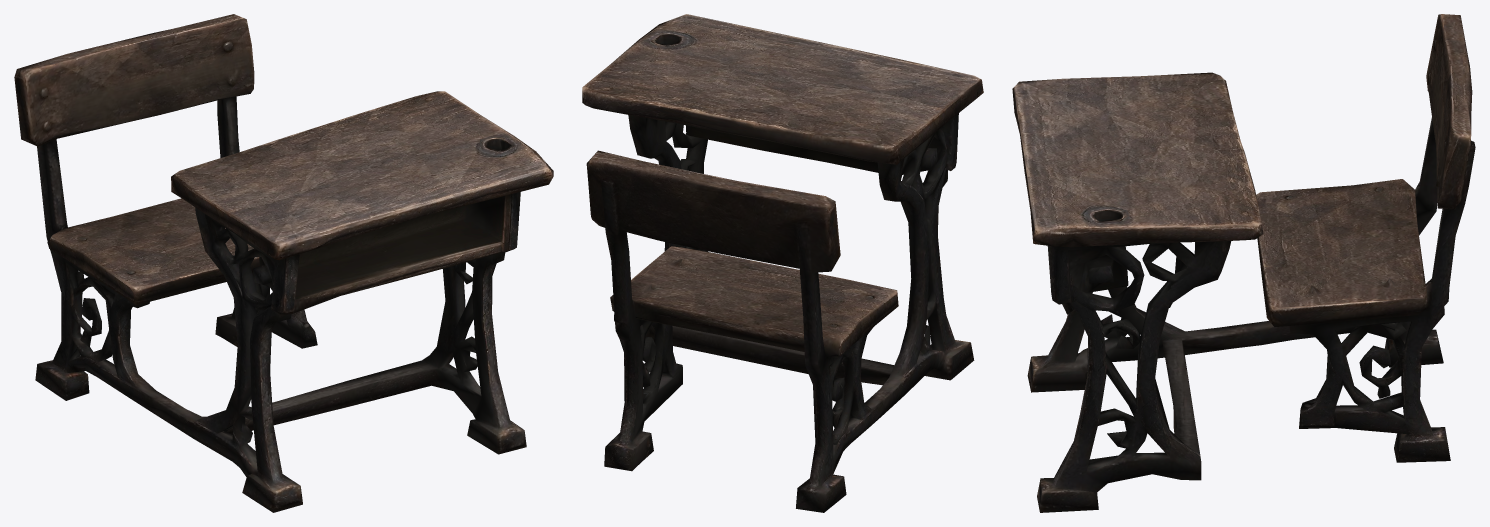
Rendered from antique+school+desk+HD+3d+model.glb.
The picture shows the model from 3 angles, left to right: view 1: azimuth 30°, elevation 25°; view 2: azimuth 150°, elevation 25°; view 3: azimuth 270°, elevation 25°; orthographic projection. The views are drawn at different scales.
Parts seen in each view (by area): view 1: tripo_node_00d04fcc-b94a-4f75-957b-bcaaf8d9d767; view 2: tripo_node_00d04fcc-b94a-4f75-957b-bcaaf8d9d767; view 3: tripo_node_00d04fcc-b94a-4f75-957b-bcaaf8d9d767.
Boxes of the visible parts, <box> form: tripo_node_00d04fcc-b94a-4f75-957b-bcaaf8d9d767: <box>14,14,553,512</box>; tripo_node_00d04fcc-b94a-4f75-957b-bcaaf8d9d767: <box>582,14,983,512</box>; tripo_node_00d04fcc-b94a-4f75-957b-bcaaf8d9d767: <box>1012,14,1475,512</box>.
Size of the model in its own units: 0.9238 by 0.8055 by 1.
Materials: 1 (1 with a texture image).
